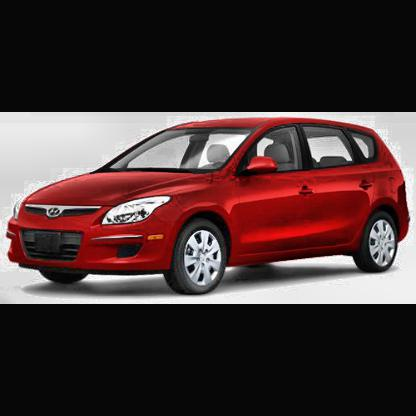Hyundai Elantra Touring Hatchback 2012: (6, 117, 413, 297)
